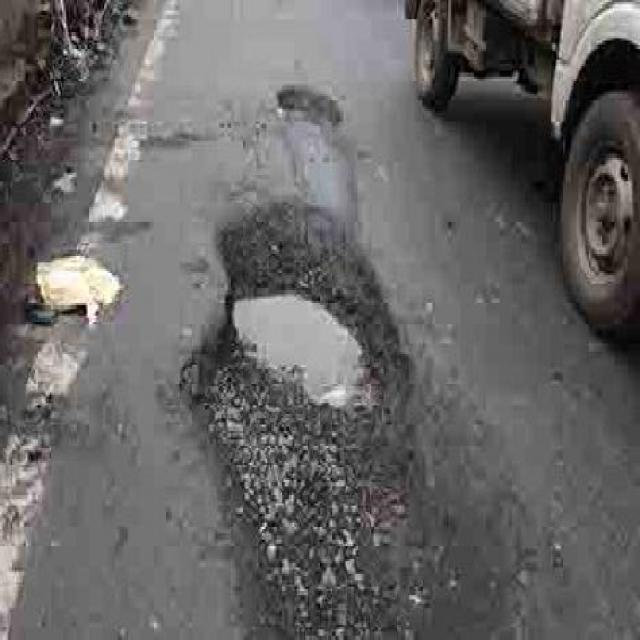pothole: (184, 196, 415, 627), (174, 202, 411, 618), (269, 71, 349, 142), (275, 79, 343, 126)
